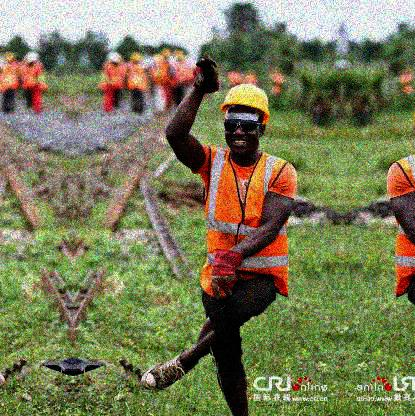helmet: (220, 84, 270, 160)
